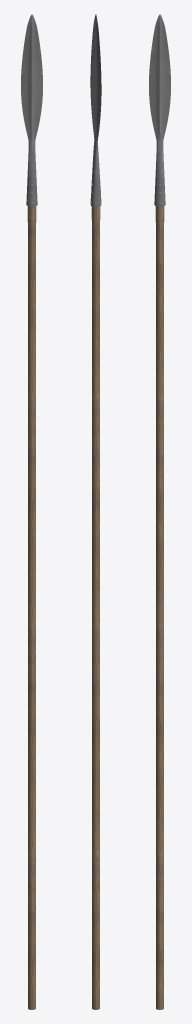
Rendered from lance.fbx.
3 views of the same model, side by side, from view 1: azimuth 90°, elevation 25°; view 2: azimuth 210°, elevation 25°; view 3: azimuth 270°, elevation 25° (orthographic).
Visible parts, largest first — view 1: Empty_Mesh_1, Empty_Mesh; view 2: Empty_Mesh_1, Empty_Mesh; view 3: Empty_Mesh_1, Empty_Mesh.
Part boxes in pixels (left/top/right/bottom): Empty_Mesh_1: left=27, top=206, right=36, bottom=1009; Empty_Mesh: left=21, top=14, right=42, bottom=206; Empty_Mesh_1: left=91, top=206, right=100, bottom=1009; Empty_Mesh: left=90, top=14, right=101, bottom=206; Empty_Mesh_1: left=155, top=206, right=164, bottom=1009; Empty_Mesh: left=149, top=14, right=170, bottom=206.
Bounding box in the file's own units: 2.69 × 243 × 4.93.
